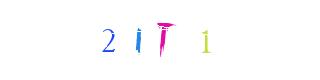1: (166, 0, 246, 80)
2: (85, 0, 165, 80)
L: (120, 0, 200, 80)
T: (123, 0, 203, 80)
